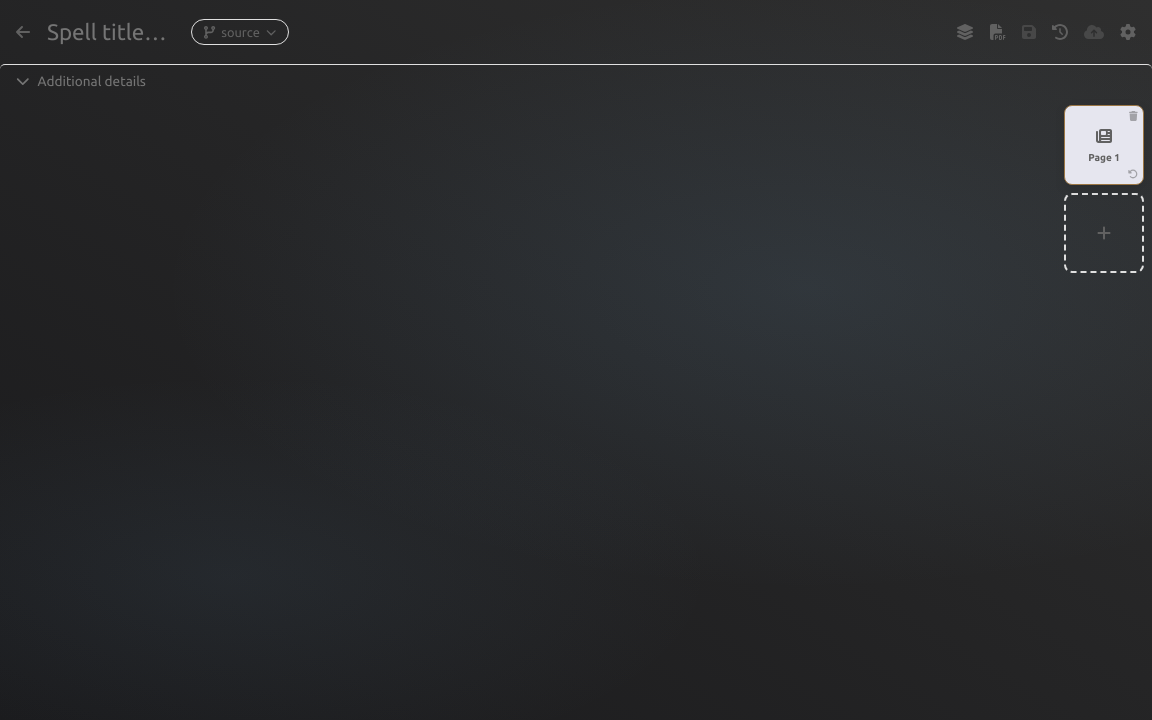
Scenario: SpellEditForm › saving state › a reset that can't be saved (no title) stays a change to save, not lost
This screenshot has width=1152, height=720.
Expected: the element with test id "spell-edit-form" is shown, [0,18,1151,273]
Step 1. Click the button with test id "page-list-reset-btn-0" → (1133, 174), box [1128,169,1138,179]
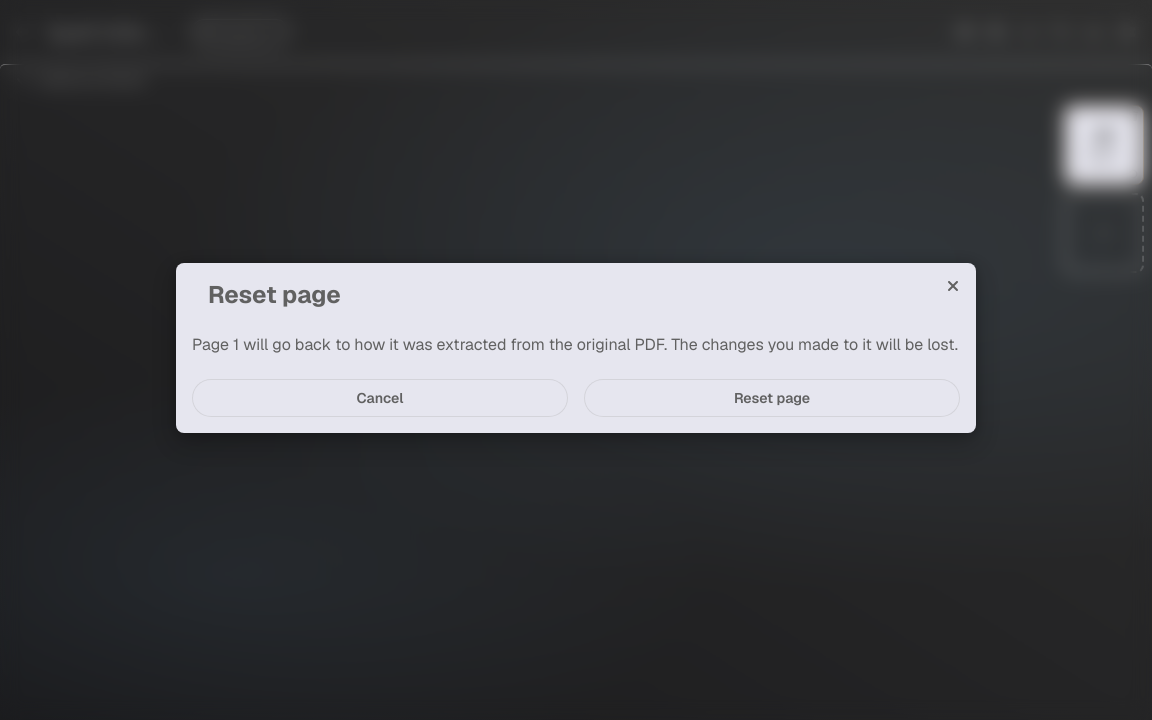
Step 2. Click the button with test id "delete-confirm-confirm-btn" → (772, 398), box [584,379,960,417]
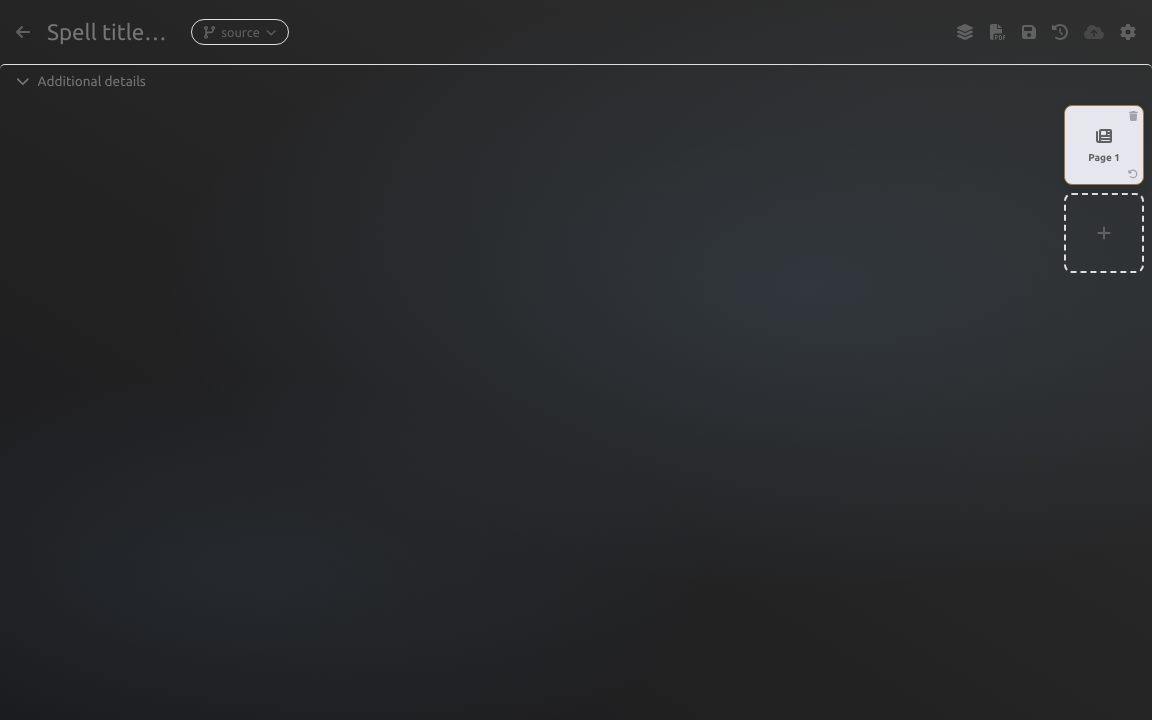
Result: the button with test id "spell-edit-save-btn" is enabled at [1022,24,1036,40]
